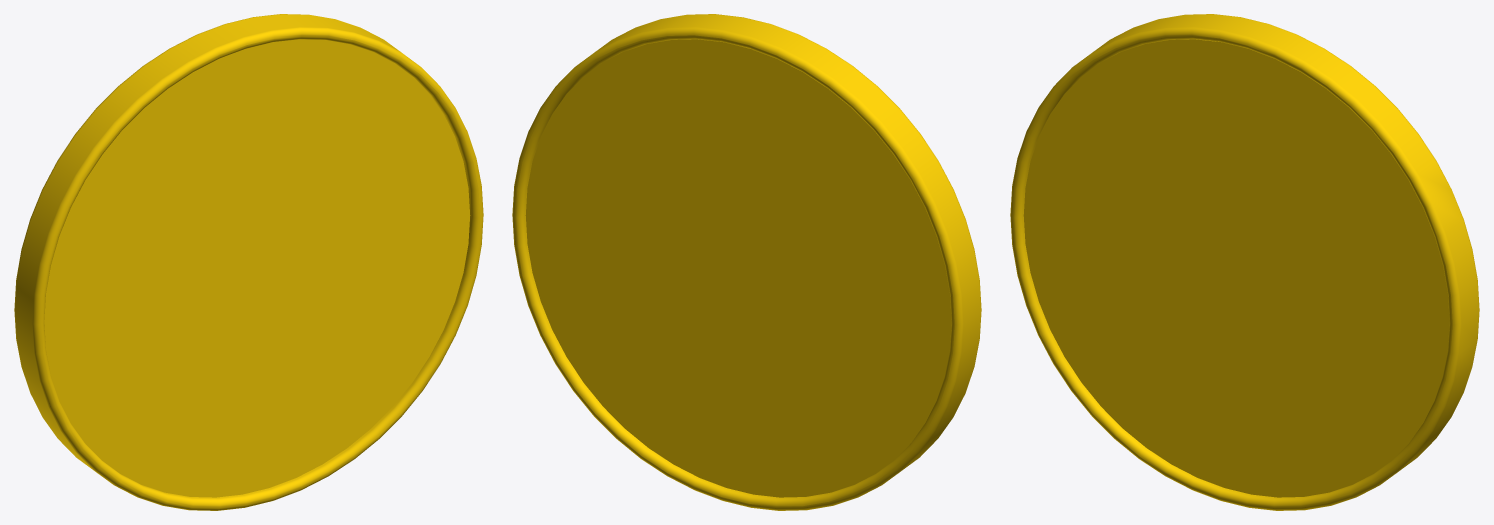
The model's file is gold_coin.glb.
The picture shows the model from 3 angles, left to right: view 1: azimuth 30°, elevation 25°; view 2: azimuth 150°, elevation 25°; view 3: azimuth 330°, elevation 25°; orthographic projection.
Visible parts, largest first — view 1: pCylinder1_lambert1_0; view 2: pCylinder1_lambert1_0; view 3: pCylinder1_lambert1_0.
Part boxes in pixels (x1,y1,x2,y2): pCylinder1_lambert1_0: [14, 14, 483, 510]; pCylinder1_lambert1_0: [512, 14, 981, 510]; pCylinder1_lambert1_0: [1010, 14, 1479, 510].
Size of the model in its own units: 0.3155 by 0.3148 by 0.0286.
